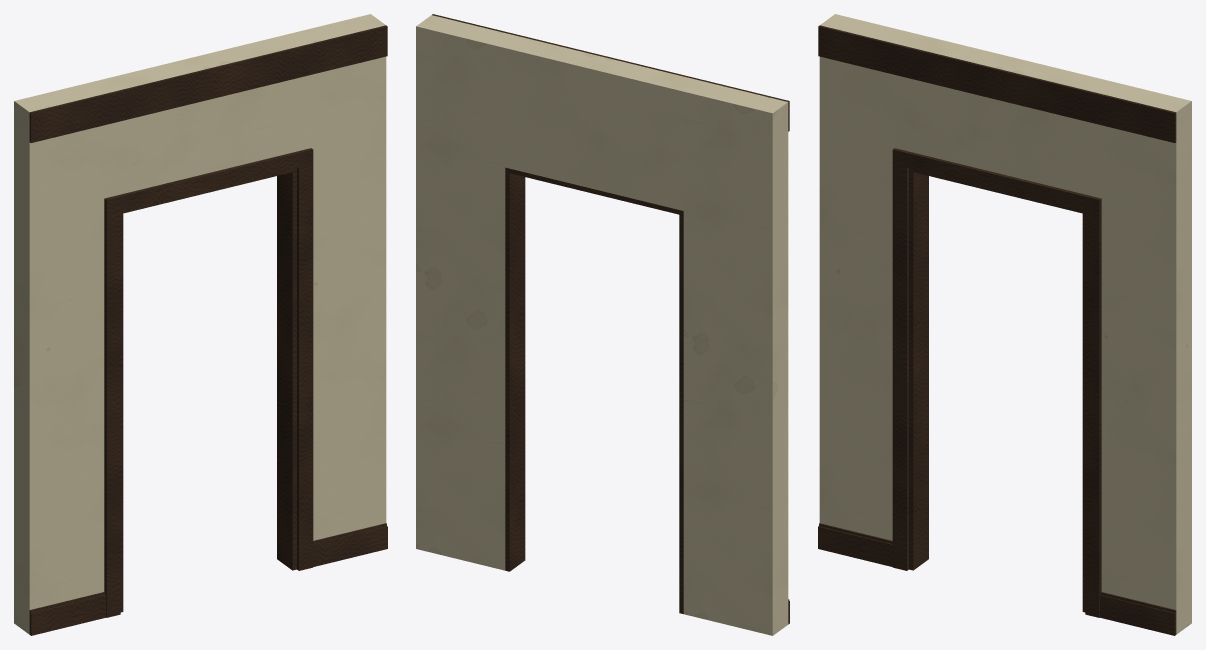
Rendered from Wall_Doorway_200.glb.
3 renders of one model, left to right at view 1: azimuth 30°, elevation 25°; view 2: azimuth 150°, elevation 25°; view 3: azimuth 330°, elevation 25°, orthographic.
Visible parts, largest first — view 1: Wall_Doorway_200; view 2: Wall_Doorway_200; view 3: Wall_Doorway_200.
Boxes of the visible parts, x1=… form: Wall_Doorway_200: x1=14, y1=14, x2=387, y2=635; Wall_Doorway_200: x1=416, y1=14, x2=789, y2=635; Wall_Doorway_200: x1=818, y1=14, x2=1191, y2=635.
Size of the model in its own units: 2 by 2.8 by 0.17.
2 materials, 2 textured.
